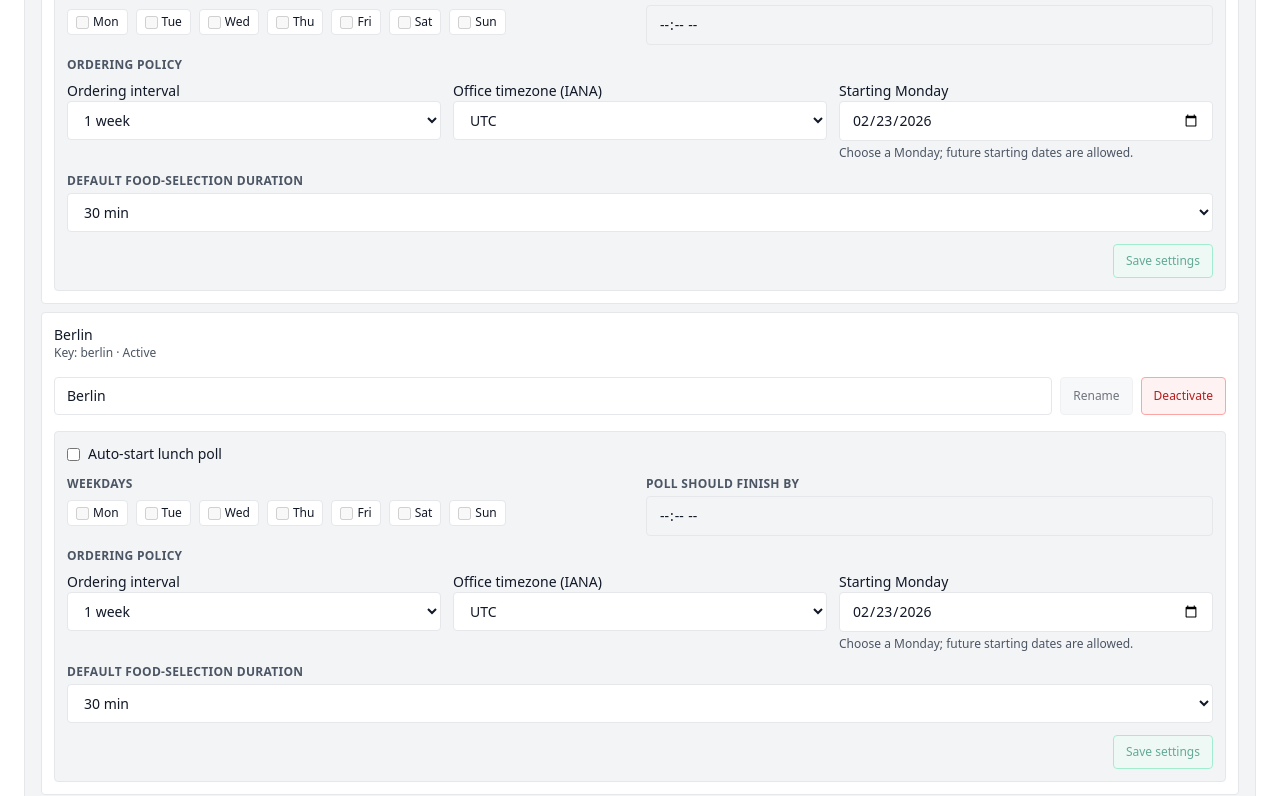
Test case: Administration page › renames and deactivates an office location
(page scrolled)
Replace the text in the field named "office name for berlin" with "Berlin HQ" at [553, 396], box [54,377,1052,415]
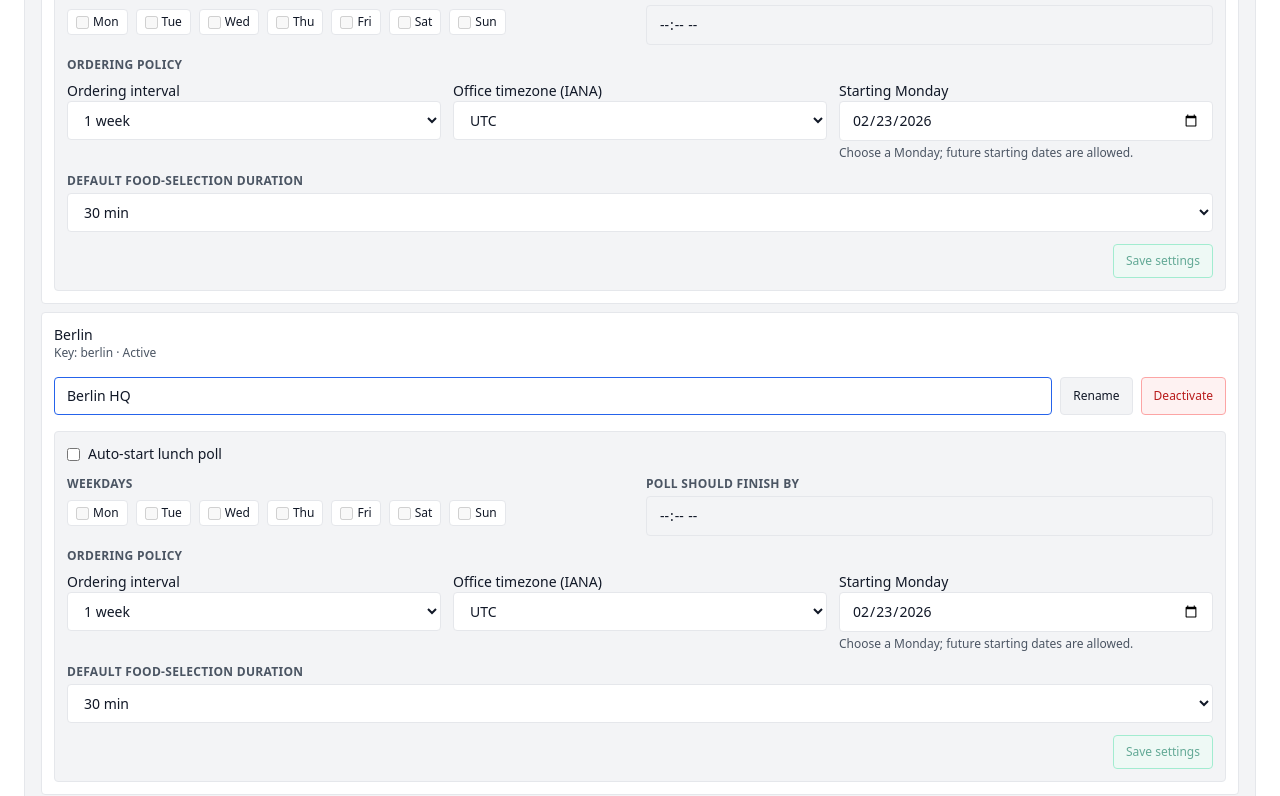
Click the button with aria-label "rename office berlin".
click(1096, 396)  # box [1060,377,1133,415]
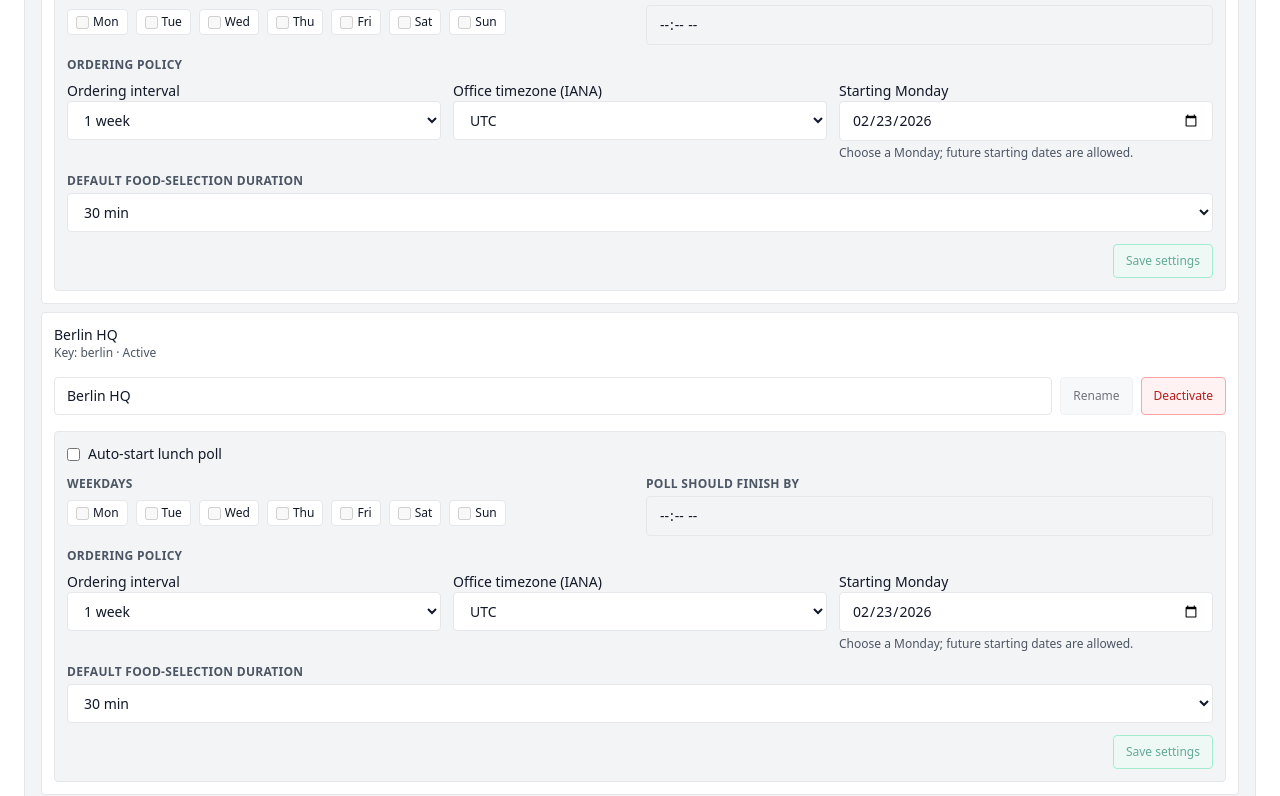
Click the button with aria-label "deactivate office berlin".
click(1183, 396)  # box [1141,377,1226,415]
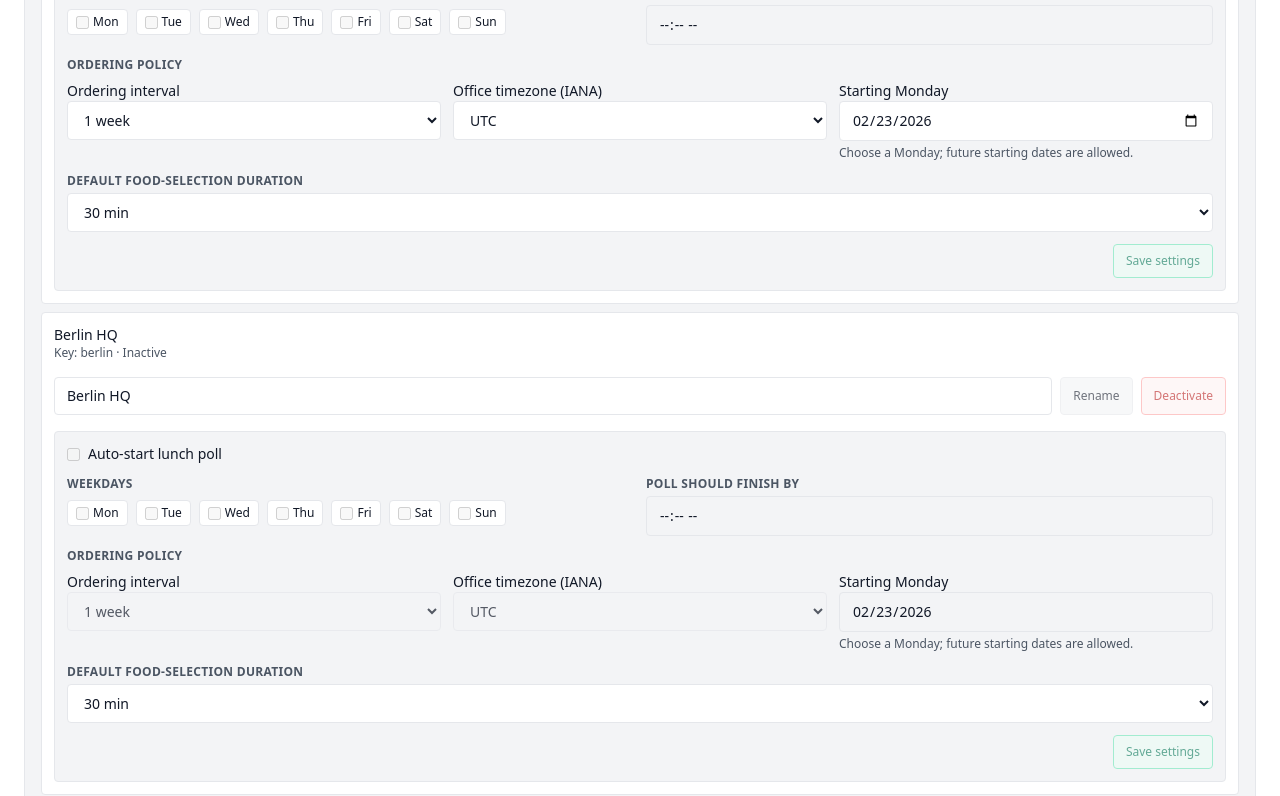
Expected: the text "Key: berlin · Inactive" is shown, [54,344,167,361]
